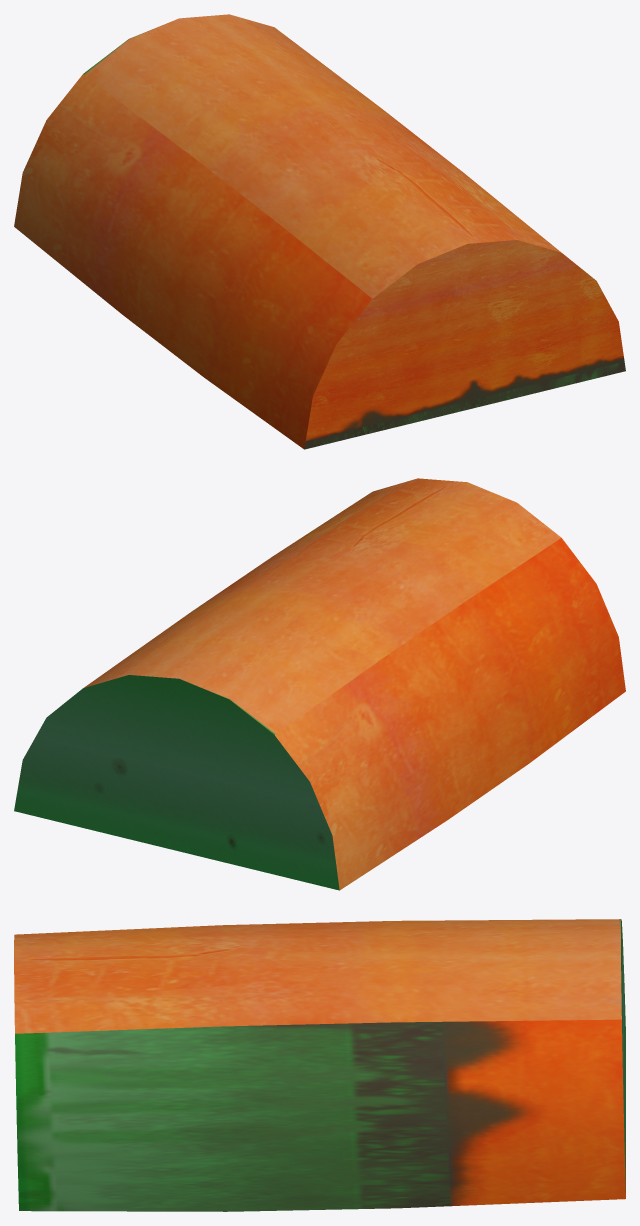
Rendered from CarrotFourth.fbx.
3 renders of one model, top to bottom at view 1: azimuth 30°, elevation 25°; view 2: azimuth 150°, elevation 25°; view 3: azimuth 270°, elevation 25°, orthographic. The views are drawn at different scales.
Parts seen in each view (by area): view 1: pCylinder1; view 2: pCylinder1; view 3: pCylinder1.
Boxes of the visible parts, <box> form: pCylinder1: <box>14,14,625,449</box>; pCylinder1: <box>14,478,625,890</box>; pCylinder1: <box>14,919,625,1211</box>.
Bounding box in the file's own units: 3.33 × 1.79 × 5.15.
